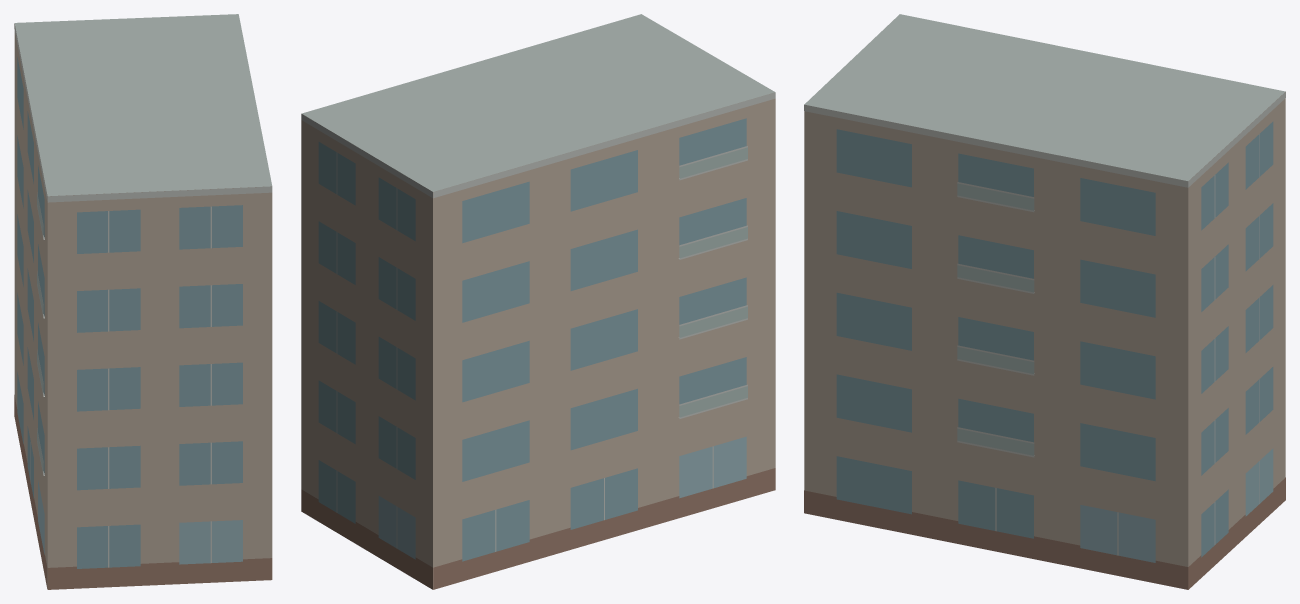
Rendered from survey-upis-32634241.glb.
The picture shows the model from 3 angles, left to right: view 1: azimuth 30°, elevation 25°; view 2: azimuth 150°, elevation 25°; view 3: azimuth 270°, elevation 25°; orthographic projection. The views are drawn at different scales.
Visible parts, largest first — view 1: survey-upis-32634241.tmp; view 2: survey-upis-32634241.tmp; view 3: survey-upis-32634241.tmp.
Boxes of the visible parts, <box> form: survey-upis-32634241.tmp: <box>14,14,272,589</box>; survey-upis-32634241.tmp: <box>301,14,775,589</box>; survey-upis-32634241.tmp: <box>804,14,1285,589</box>.
Bounding box in the file's own units: 13.39 × 15.25 × 16.3.
